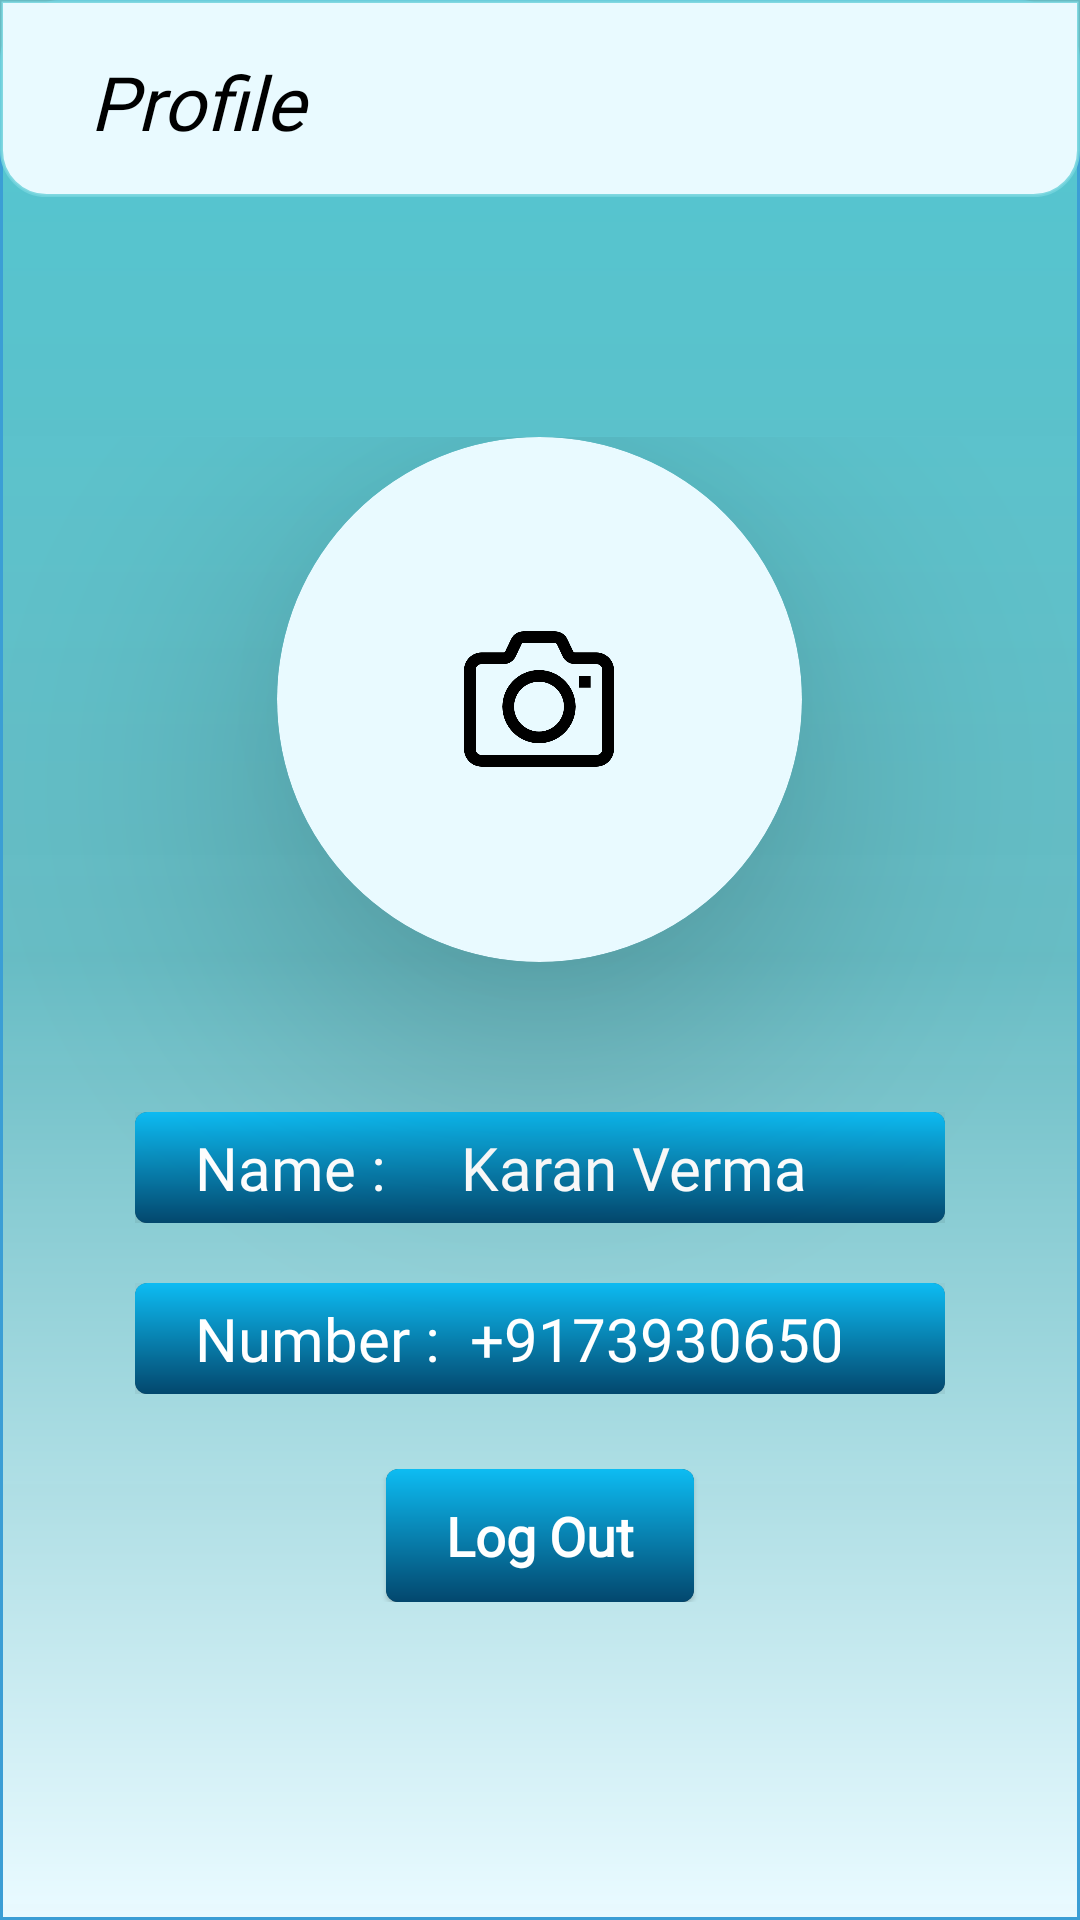

Where icons sit on this 1080*1920 app screen, as (x1, y1, x2, y2):
cam: (464, 631, 614, 767)
